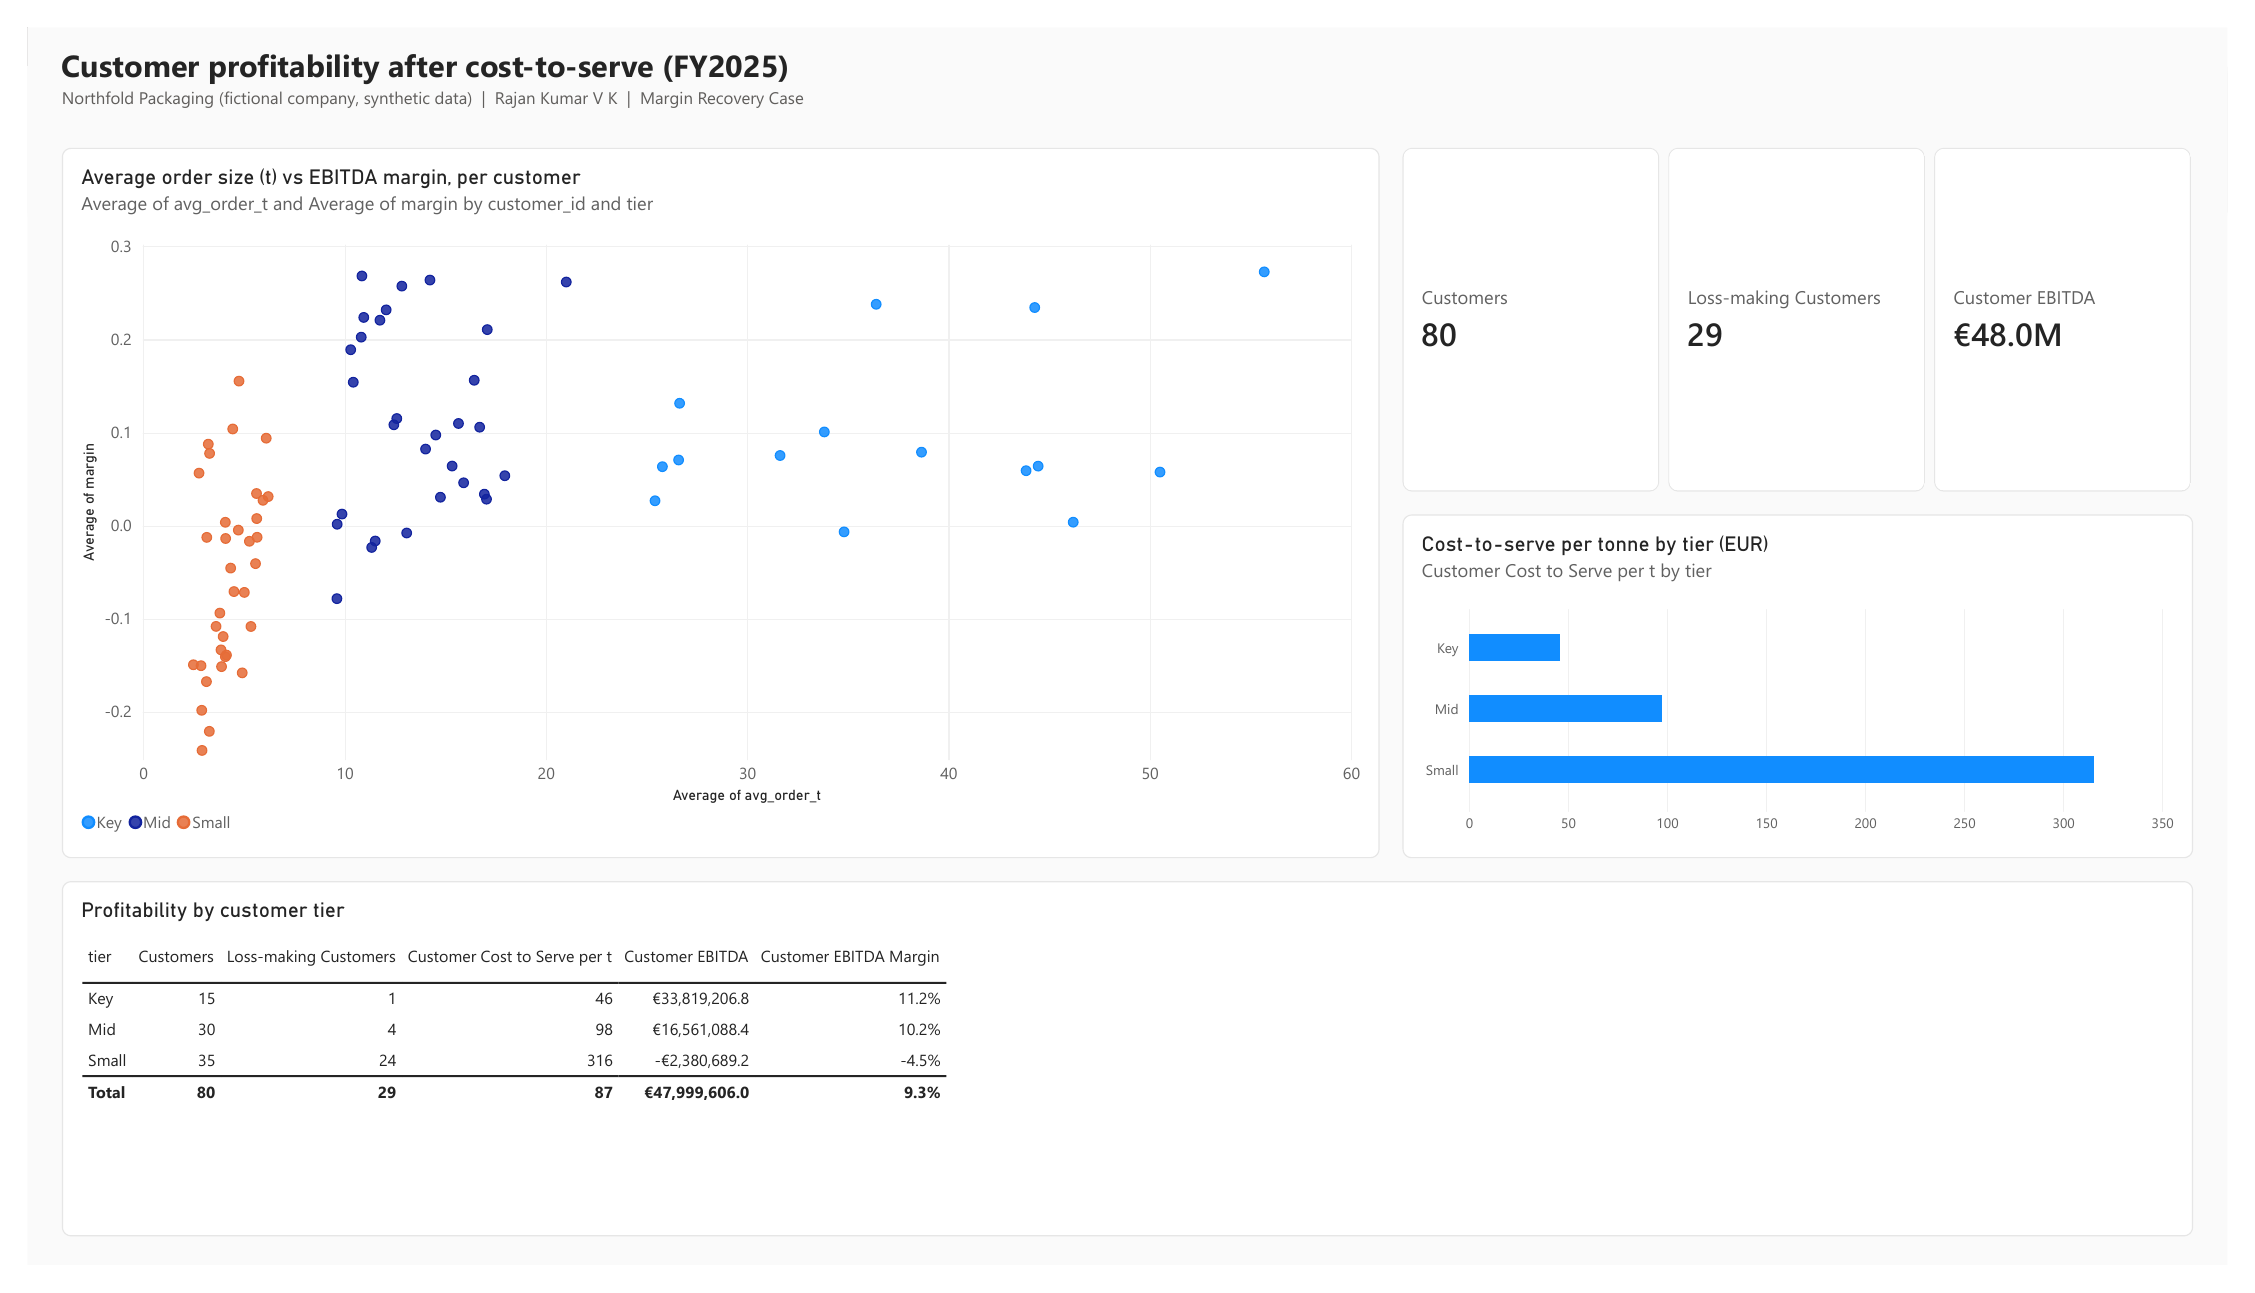

The dashboard page shown, as its layout file describes it:
{"tool":"powerbi","page":{"name":"3 Customer profitability","canvas":[1920,1080],"ordinal":2},"visuals":[{"type":"textbox","box":[30,15,1860,80],"z":0},{"type":"scatterChart","title":"Average order size (t) vs EBITDA margin, per customer","fields":{"Category":["customer_profit.customer_id"],"Series":["customer_profit.tier"],"X":["Average(customer_profit.avg_order_t)"],"Y":["Average(customer_profit.margin)"]},"box":[30,105,1150,620],"z":1},{"type":"cardVisual","fields":{"Data":["_Measures.Customers","_Measures.Loss-making Customers","_Measures.Customer EBITDA"]},"box":[1200,105,690,300],"z":2},{"type":"clusteredBarChart","title":"Cost-to-serve per tonne by tier (EUR)","fields":{"Category":["customer_profit.tier"],"Y":["_Measures.Customer Cost to Serve per t"]},"box":[1200,425,690,300],"z":3},{"type":"tableEx","title":"Profitability by customer tier","fields":{"Values":["customer_profit.tier","_Measures.Customers","_Measures.Loss-making Customers","_Measures.Customer Cost to Serve per t","_Measures.Customer EBITDA","_Measures.Customer EBITDA Margin"]},"box":[30,745,1860,310],"z":4}]}

Visuals, with their boxes in screenshot pixels (x1, y1, x2, y2), scaled from the page's 1920x1080 canvas onto the 2255x1293 screenshot:
textbox: box(35, 18, 2220, 114)
"Average order size (t) vs EBITDA margin, per customer" scatterChart: box(35, 126, 1386, 868)
cardVisual - _Measures.Customers x _Measures.Loss-making Customers: box(1409, 126, 2220, 485)
"Cost-to-serve per tonne by tier (EUR)" clusteredBarChart: box(1409, 509, 2220, 868)
"Profitability by customer tier" tableEx: box(35, 892, 2220, 1263)
